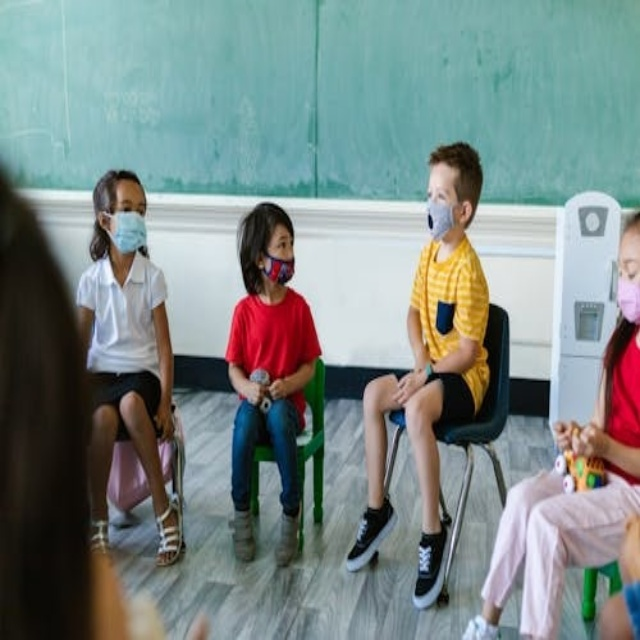Mascara: (103, 210, 148, 254), (425, 198, 463, 240), (616, 275, 640, 324), (260, 252, 296, 284)
Sin_gafas: (110, 194, 147, 217), (613, 252, 636, 281), (266, 234, 298, 254), (424, 179, 456, 194)
Sin_guantes: (572, 411, 611, 471), (386, 371, 417, 411), (552, 419, 583, 455), (242, 371, 264, 413), (154, 401, 176, 440), (268, 377, 288, 400)
